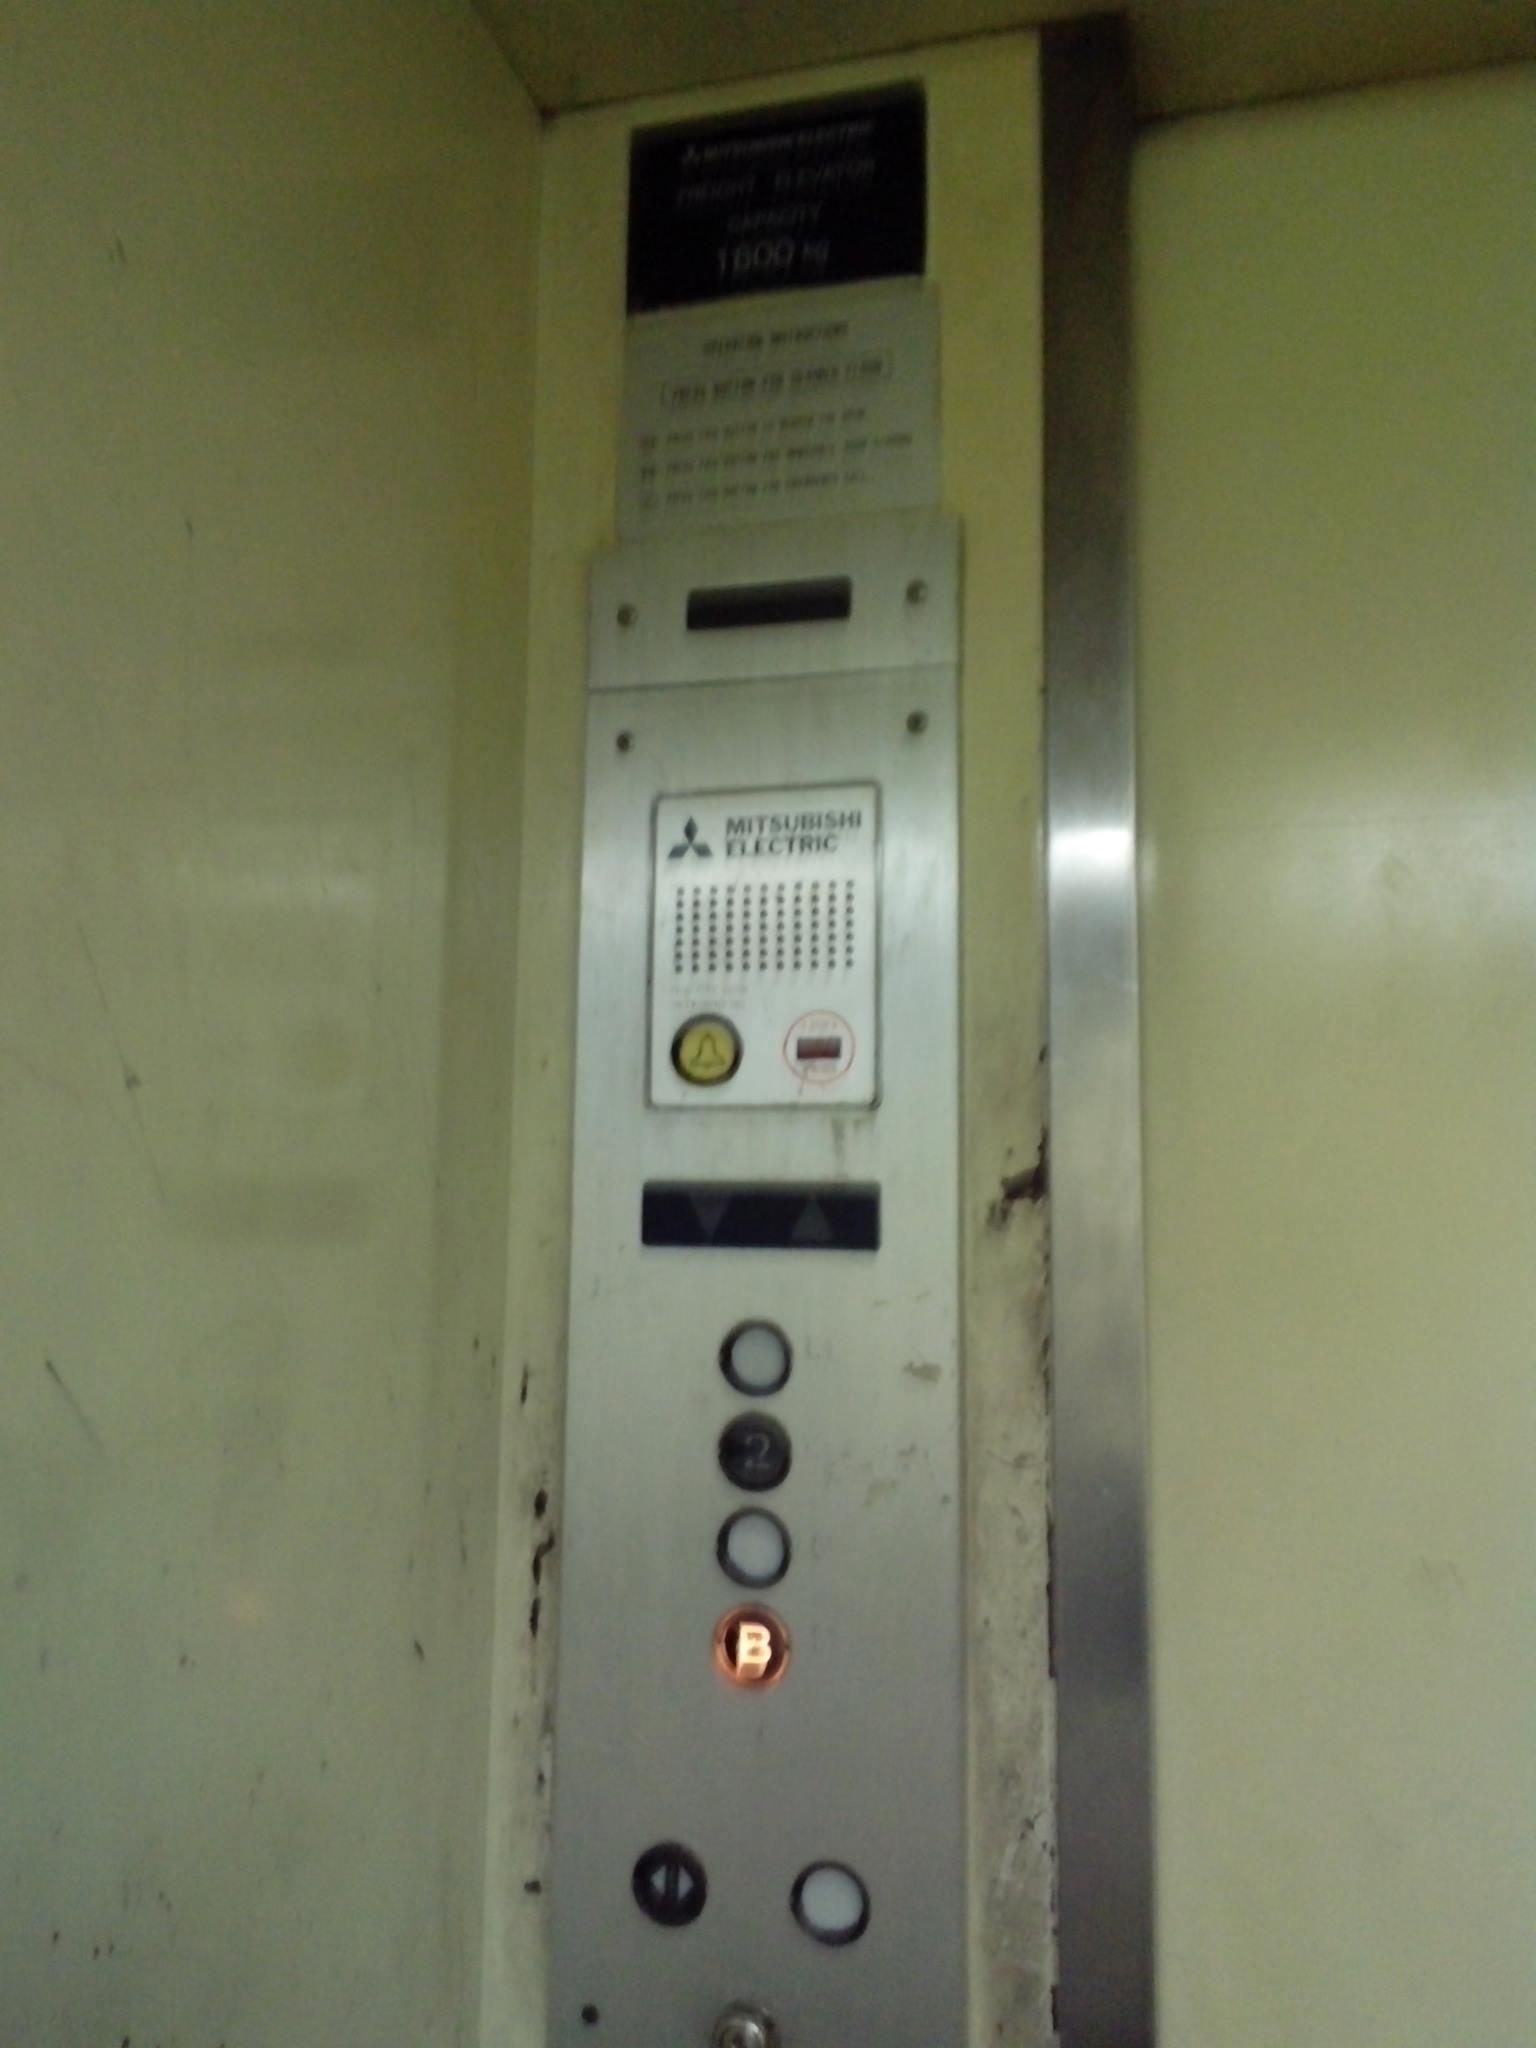2: (715, 1406, 794, 1493)
B: (715, 1601, 791, 1688)
alarm: (668, 1008, 747, 1087)
empty: (787, 1859, 871, 1946), (715, 1314, 795, 1397), (715, 1505, 791, 1588)
led: (636, 1174, 883, 1253), (679, 572, 862, 634)
open: (629, 1837, 707, 1930)
unknown: (779, 1006, 858, 1085)
